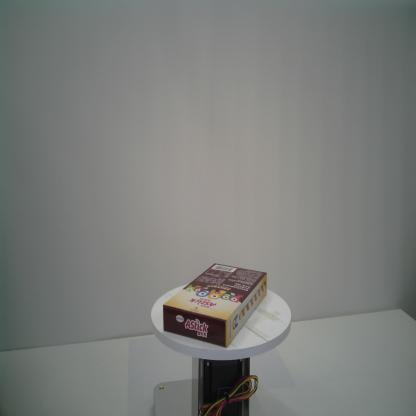Dessert: (162, 262, 269, 348)
